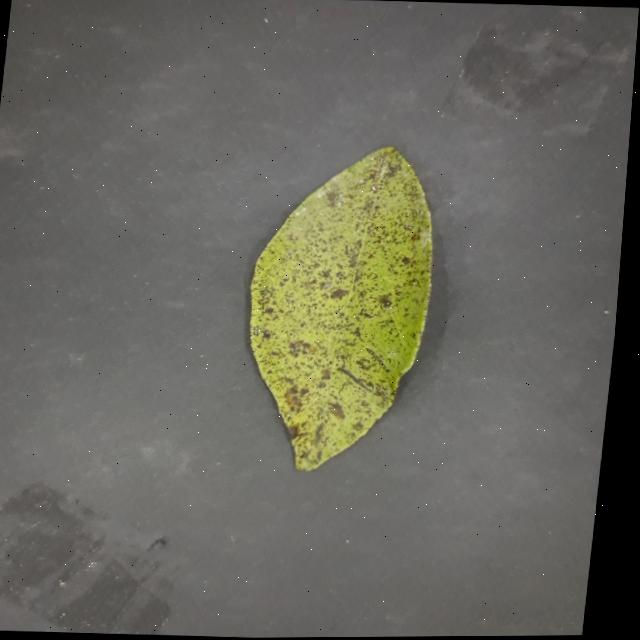greasy_spot: (250, 146, 431, 469)
